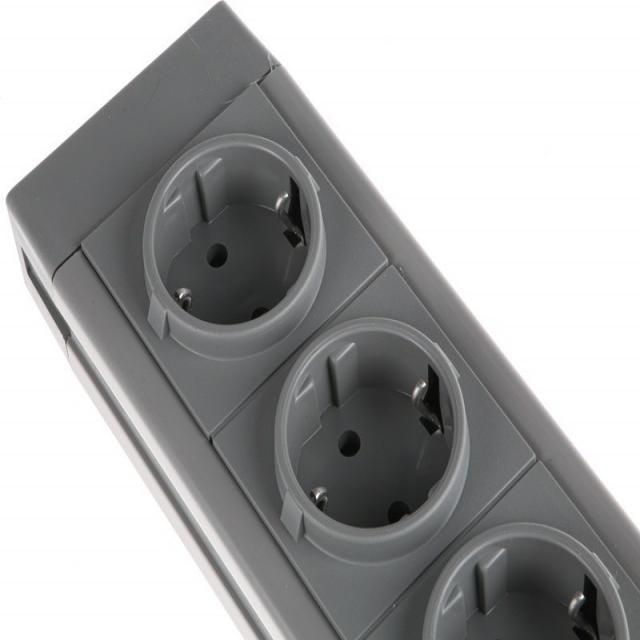typeb: (82, 94, 634, 634)
